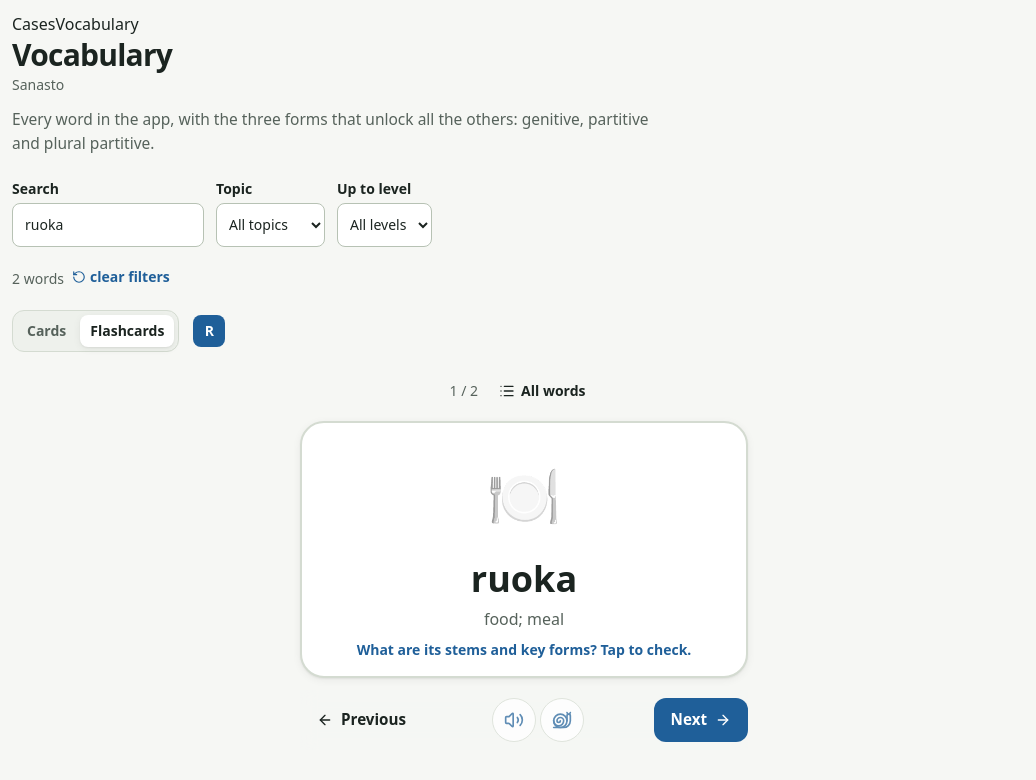
Vocabulary flashcards: the back of the card › ruoka shows the variant weak stem
Click the button "ruoka". click: (524, 579)
box: [471,559,577,599]
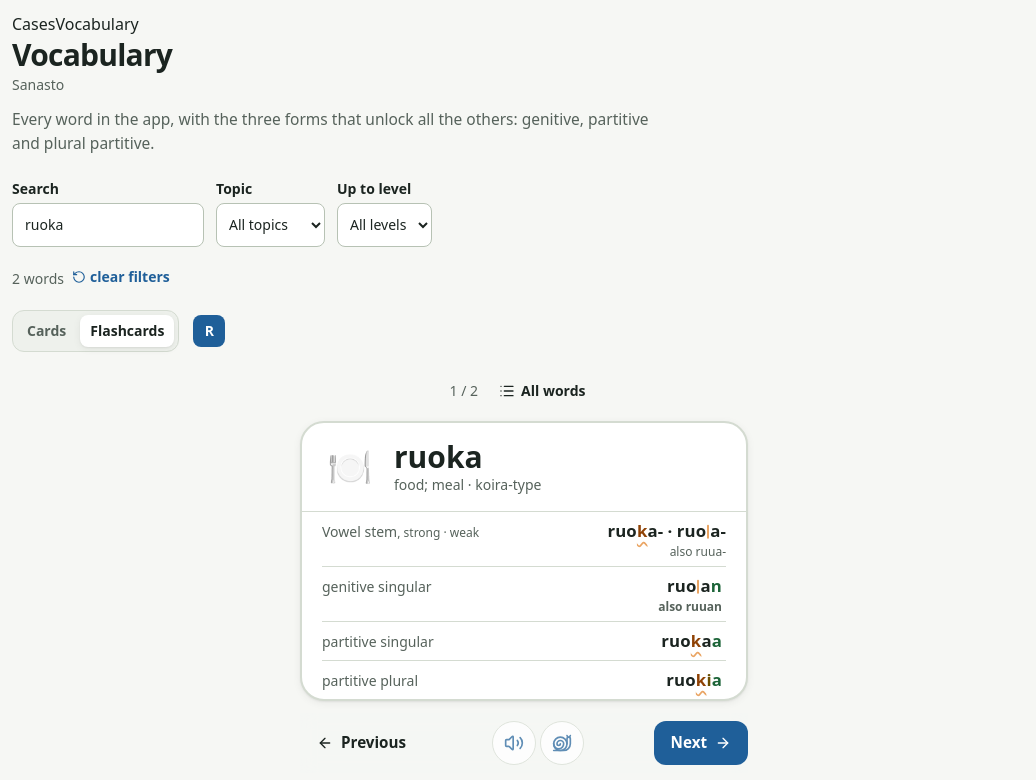
Expected: the text "Vowel stem" shows "also ruua-", [322,512,726,567]
